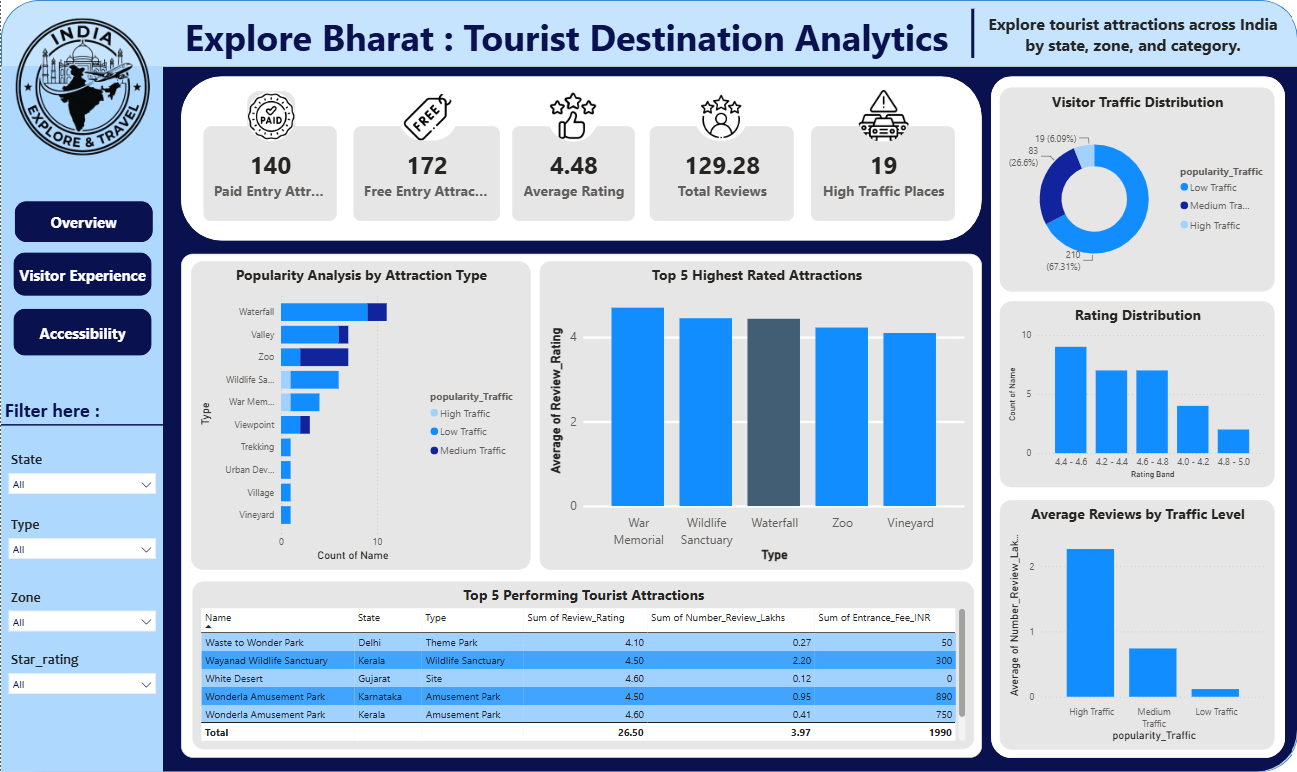

What the dashboard file says about the page in this screenshot:
{"tool":"powerbi","page":{"name":"Visitor Experience and Popularity","canvas":[1730,1030],"ordinal":2},"visuals":[{"type":"shape","box":[0,0,1730.3,1029.2],"z":0},{"type":"shape","box":[0,88,1730.3,941.2],"z":1000},{"type":"shape","box":[240.1,100.8,1067.6,219.3],"z":2000,"group":"g2"},{"type":"shape","box":[1320.5,100.8,392.2,909.2],"z":2000},{"type":"shape","box":[0,88,216.1,941.2],"z":3000,"group":"g1"},{"type":"shape","box":[240.1,337.7,1067.6,672.3],"z":3000},{"type":"actionButton","box":[17.6,267.2,184.1,54.4],"z":4000,"group":"g1"},{"type":"clusteredColumnChart","title":"Top 5 Highest Rated Attractions","fields":{"Category":["Cleaned Dataset.Type"],"Y":["Avg(Cleaned Dataset.Reiew_Rating)"]},"box":[718.7,348.9,577.8,411.4],"z":4000},{"type":"donutChart","title":"Visitor Traffic Distribution","fields":{"Y":["CountNonNull(Cleaned Dataset.Name)"],"Category":["Cleaned Dataset.popularity_Traffic"]},"box":[1331.8,116.8,366.6,272.1],"z":5000},{"type":"actionButton","box":[16,336,184.1,57.6],"z":5000,"group":"g1"},{"type":"barChart","title":"Popularity Analysis by Attraction Type","fields":{"Category":["Cleaned Dataset.Type"],"Series":["Cleaned Dataset.popularity_Traffic"],"Y":["CountNonNull(Cleaned Dataset.Name)"]},"box":[254,348.7,453,411.3],"z":6000},{"type":"actionButton","box":[16,411.3,184.1,62.4],"z":6000,"group":"g1"},{"type":"shape","box":[0.4,505.4,216.1,123],"z":7000,"group":"g1"},{"type":"clusteredColumnChart","title":"Average Reviews by Traffic Level","fields":{"Category":["Cleaned Dataset.popularity_Traffic"],"Y":["Avg(Cleaned Dataset.Number_Review_Lakhs)"]},"box":[1331.8,665.9,366.6,332.9],"z":7000},{"type":"group","id":"g1","title":"Group 1","box":[0,88,230.5,941.2],"z":8000},{"type":"textbox","box":[0,524.9,230.5,56],"z":8000,"group":"g1"},{"type":"group","id":"g2","title":"Group 2","box":[240.1,100.8,1067.6,219.3],"z":9000},{"type":"slicer","fields":{"Values":["Cleaned Dataset.State"]},"box":[0,597,216.1,67.2],"z":9000,"group":"g1"},{"type":"group","id":"g3","title":"Group 3","box":[240.1,11.2,1469.4,76.8],"z":10000},{"type":"slicer","fields":{"Values":["Cleaned Dataset.Type"]},"box":[0,683.4,216.1,72],"z":10000,"group":"g1"},{"type":"clusteredColumnChart","title":"Rating Distribution","fields":{"Category":["Cleaned Dataset.Rating Band"],"Y":["CountNonNull(Cleaned Dataset.Name)"]},"box":[1331.8,401.8,366.6,248.1],"z":11000},{"type":"slicer","fields":{"Values":["Cleaned Dataset.Zone"]},"box":[0,779.4,216.1,83.2],"z":11000,"group":"g1"},{"type":"textbox","box":[240.1,11.2,1120.5,76.8],"z":12000,"group":"g3"},{"type":"tableEx","title":"Top 5 Performing Tourist Attractions","fields":{"Values":["Cleaned Dataset.Name","Cleaned Dataset.State","Cleaned Dataset.Type","Sum(Cleaned Dataset.Reiew_Rating)","Sum(Cleaned Dataset.Number_Review_Lakhs)","Sum(Cleaned Dataset.Entrance_Fee_INR)"]},"box":[254.5,774.7,1042,224.1],"z":12000},{"type":"textbox","box":[1307.7,11.2,401.8,76.8],"z":13000,"group":"g3"},{"type":"image","box":[0,16,216.1,200.1],"z":13000},{"type":"shape","box":[1272.5,11.2,48,65.6],"z":14000,"group":"g3"},{"type":"slicer","fields":{"Values":["Cleaned Dataset.Star_rating"]},"box":[0,862.8,216.1,91.2],"z":14000},{"type":"cardVisual","fields":{"Data":["Cleaned Dataset.Paid Entry Attractions"]},"box":[270.5,168,177.7,126.5],"z":15000,"group":"g2"},{"type":"cardVisual","fields":{"Data":["Cleaned Dataset.Free Entry Attractions"]},"box":[470.6,168,195.3,126.5],"z":16000,"group":"g2"},{"type":"cardVisual","fields":{"Data":["Cleaned Dataset.Average Rating"]},"box":[681.9,168,163.3,126.5],"z":17000,"group":"g2"},{"type":"cardVisual","fields":{"Data":["Cleaned Dataset.Total Reviews"]},"box":[864.4,168,192.1,126.5],"z":18000,"group":"g2"},{"type":"cardVisual","fields":{"Data":["Cleaned Dataset.High Traffic Places"]},"box":[1080.4,168,192.1,126.5],"z":19000,"group":"g2"},{"type":"image","box":[328.1,120,64,67.2],"z":20000,"group":"g2"},{"type":"image","box":[529.8,123.2,78.4,64],"z":21000,"group":"g2"},{"type":"image","box":[728.3,118.4,68.8,68.8],"z":22000,"group":"g2"},{"type":"image","box":[925.2,123.2,70.4,64],"z":23000,"group":"g2"},{"type":"image","box":[1141.3,118.4,70.4,68.8],"z":24000,"group":"g2"}]}

Visuals, with their boxes in screenshot pixels (x1, y1, x2, y2), scaled from the page's 1730x1030 canvas onto the 1297x772 screenshot:
shape: (x1=0, y1=0, x2=1296, y2=771)
shape: (x1=0, y1=66, x2=1296, y2=771)
shape: (x1=180, y1=76, x2=980, y2=240)
shape: (x1=990, y1=76, x2=1284, y2=757)
shape: (x1=0, y1=66, x2=162, y2=771)
shape: (x1=180, y1=253, x2=980, y2=757)
actionButton: (x1=13, y1=200, x2=151, y2=241)
"Top 5 Highest Rated Attractions" clusteredColumnChart: (x1=539, y1=262, x2=972, y2=570)
"Visitor Traffic Distribution" donutChart: (x1=998, y1=88, x2=1273, y2=291)
actionButton: (x1=12, y1=252, x2=150, y2=295)
"Popularity Analysis by Attraction Type" barChart: (x1=190, y1=261, x2=530, y2=570)
actionButton: (x1=12, y1=308, x2=150, y2=355)
shape: (x1=0, y1=379, x2=162, y2=471)
"Average Reviews by Traffic Level" clusteredColumnChart: (x1=998, y1=499, x2=1273, y2=749)
"Group 1" group: (x1=0, y1=66, x2=173, y2=771)
textbox: (x1=0, y1=393, x2=173, y2=435)
"Group 2" group: (x1=180, y1=76, x2=980, y2=240)
slicer - Cleaned Dataset.State: (x1=0, y1=447, x2=162, y2=498)
"Group 3" group: (x1=180, y1=8, x2=1282, y2=66)
slicer - Cleaned Dataset.Type: (x1=0, y1=512, x2=162, y2=566)
"Rating Distribution" clusteredColumnChart: (x1=998, y1=301, x2=1273, y2=487)
slicer - Cleaned Dataset.Zone: (x1=0, y1=584, x2=162, y2=647)
textbox: (x1=180, y1=8, x2=1020, y2=66)
"Top 5 Performing Tourist Attractions" tableEx: (x1=191, y1=581, x2=972, y2=749)
textbox: (x1=980, y1=8, x2=1282, y2=66)
image: (x1=0, y1=12, x2=162, y2=162)
shape: (x1=954, y1=8, x2=990, y2=58)
slicer - Cleaned Dataset.Star_rating: (x1=0, y1=647, x2=162, y2=715)
cardVisual - Cleaned Dataset.Paid Entry Attractions: (x1=203, y1=126, x2=336, y2=221)
cardVisual - Cleaned Dataset.Free Entry Attractions: (x1=353, y1=126, x2=499, y2=221)
cardVisual - Cleaned Dataset.Average Rating: (x1=511, y1=126, x2=634, y2=221)
cardVisual - Cleaned Dataset.Total Reviews: (x1=648, y1=126, x2=792, y2=221)
cardVisual - Cleaned Dataset.High Traffic Places: (x1=810, y1=126, x2=954, y2=221)
image: (x1=246, y1=90, x2=294, y2=140)
image: (x1=397, y1=92, x2=456, y2=140)
image: (x1=546, y1=89, x2=598, y2=140)
image: (x1=694, y1=92, x2=746, y2=140)
image: (x1=856, y1=89, x2=908, y2=140)
